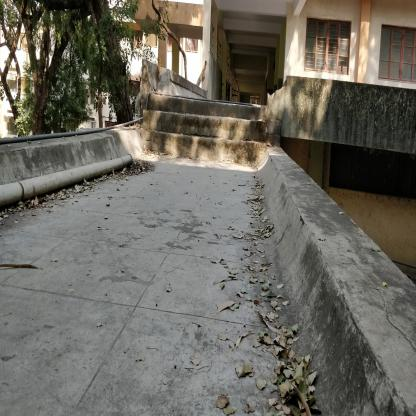stairs: (150, 102, 257, 164)
